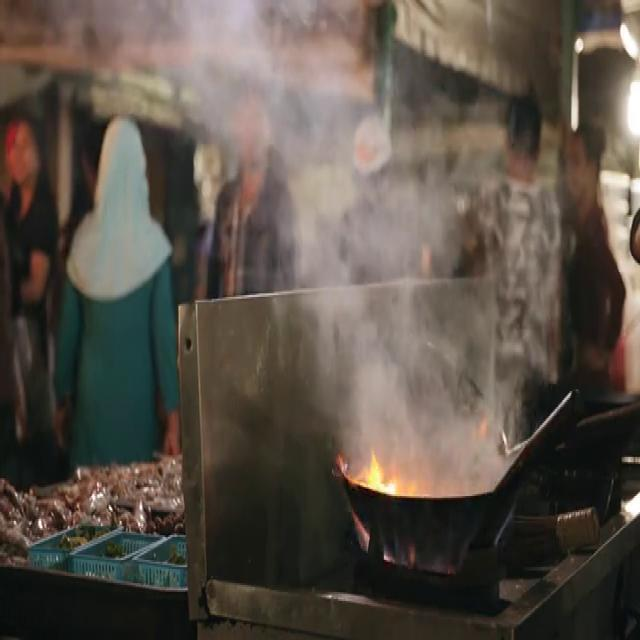smoke: (300, 184, 510, 441), (180, 18, 378, 168)
